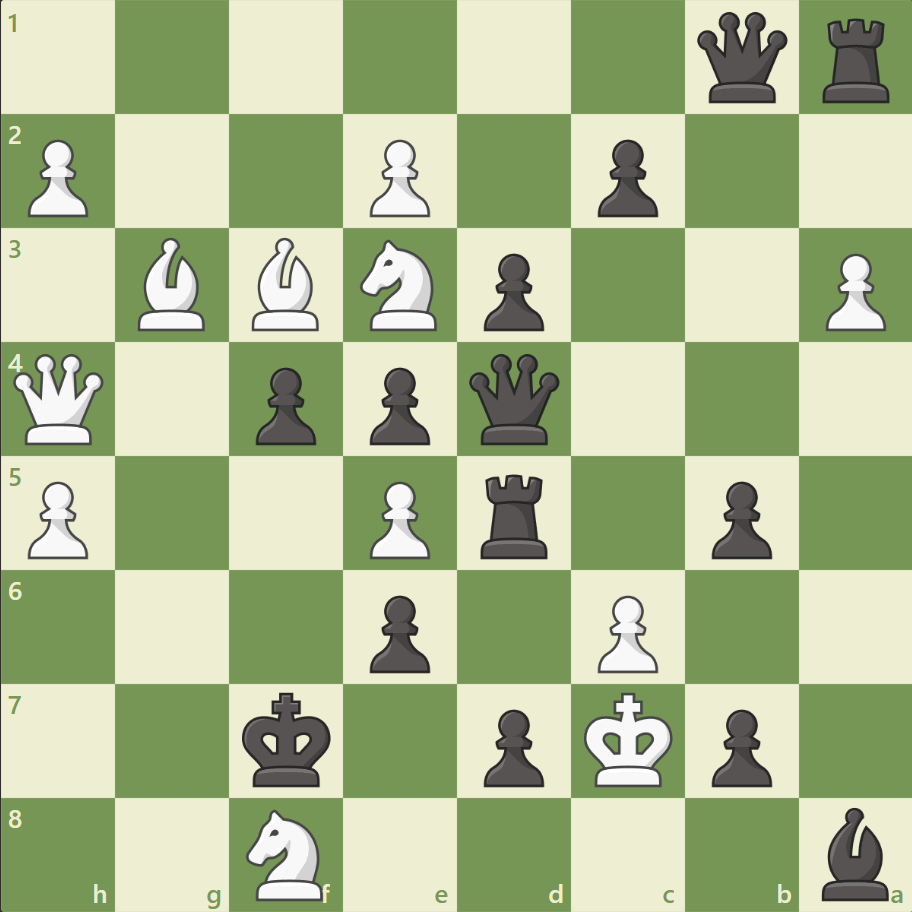B: (244, 233, 328, 336), (131, 233, 215, 336)
K: (579, 685, 679, 793)
N: (351, 234, 449, 337), (238, 802, 335, 904)
P: (20, 473, 95, 564), (20, 132, 95, 223), (588, 586, 662, 677), (361, 473, 435, 564), (815, 246, 889, 337), (361, 132, 435, 223)
Q: (10, 349, 109, 449)
b: (812, 801, 896, 904)
k: (238, 685, 338, 793)
p: (701, 700, 776, 791), (474, 700, 549, 791), (701, 473, 776, 564), (247, 359, 322, 450), (474, 246, 549, 337), (361, 586, 435, 677), (361, 359, 435, 450), (588, 132, 662, 223)
q: (464, 349, 563, 449), (691, 9, 790, 108)
r: (473, 466, 556, 563), (814, 12, 897, 109)
